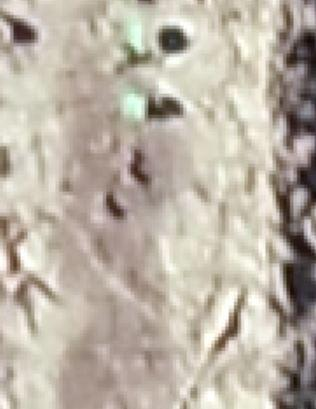cotton: (127, 21, 146, 56), (124, 91, 146, 117)
